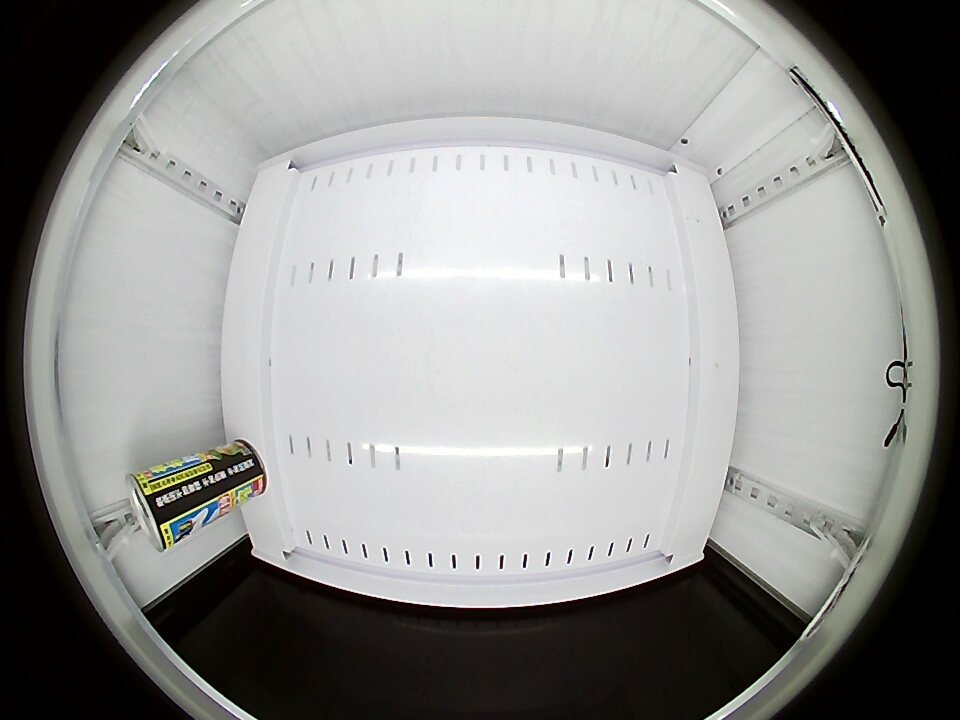yezhi: (127, 464, 189, 552)
